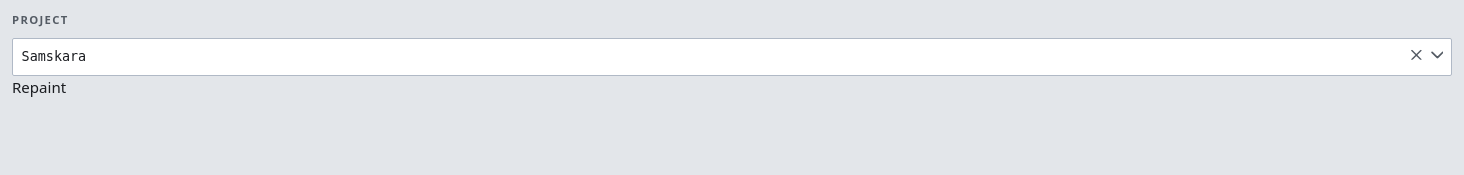
Test: SC77: an exact label typed but never chosen leaves the filter alone and reverts when focus leaves
Click the dropdown labelled "Project": coordinates (732, 57) top-left (12, 38), bottom-right (1452, 76)
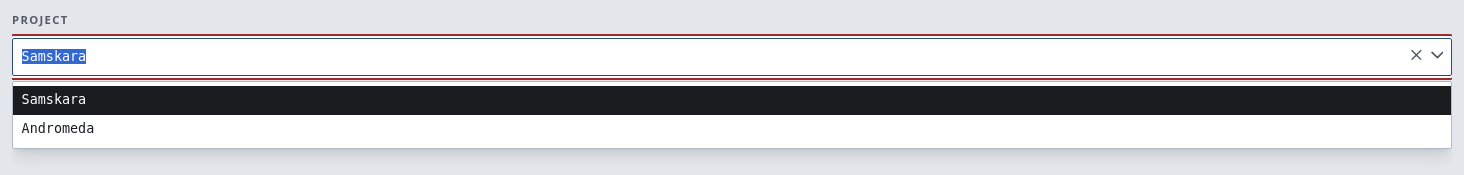
Type keys "Andromeda"
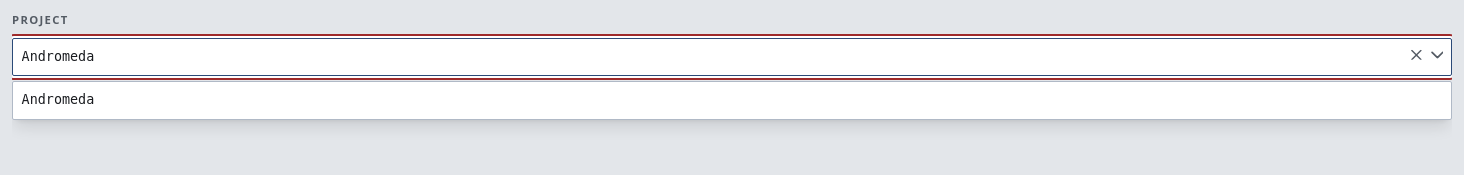
Press Tab
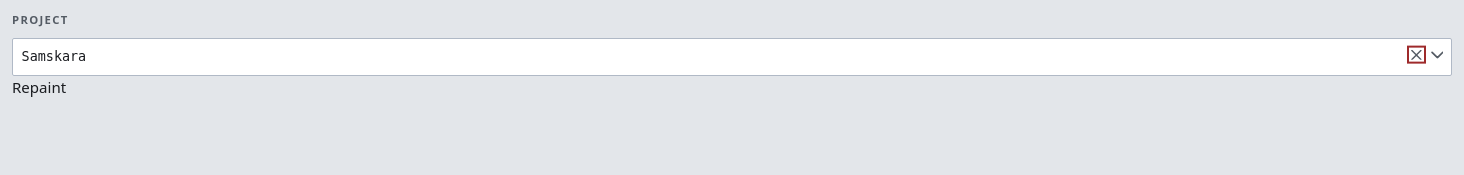
Check: the dropdown labelled "Project" holds "Samskara", box top-left (12, 38), bottom-right (1452, 76)
